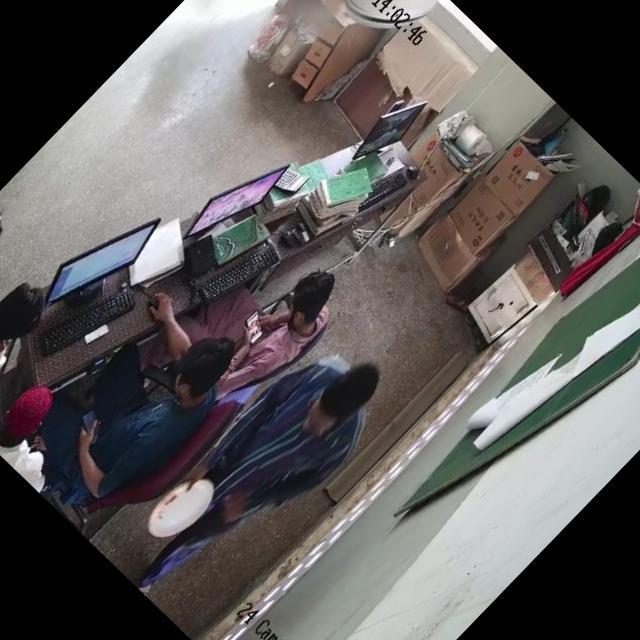person: (111, 338, 385, 618), (54, 290, 255, 492), (180, 224, 354, 398), (0, 265, 67, 428), (0, 377, 92, 491), (0, 205, 37, 365)
